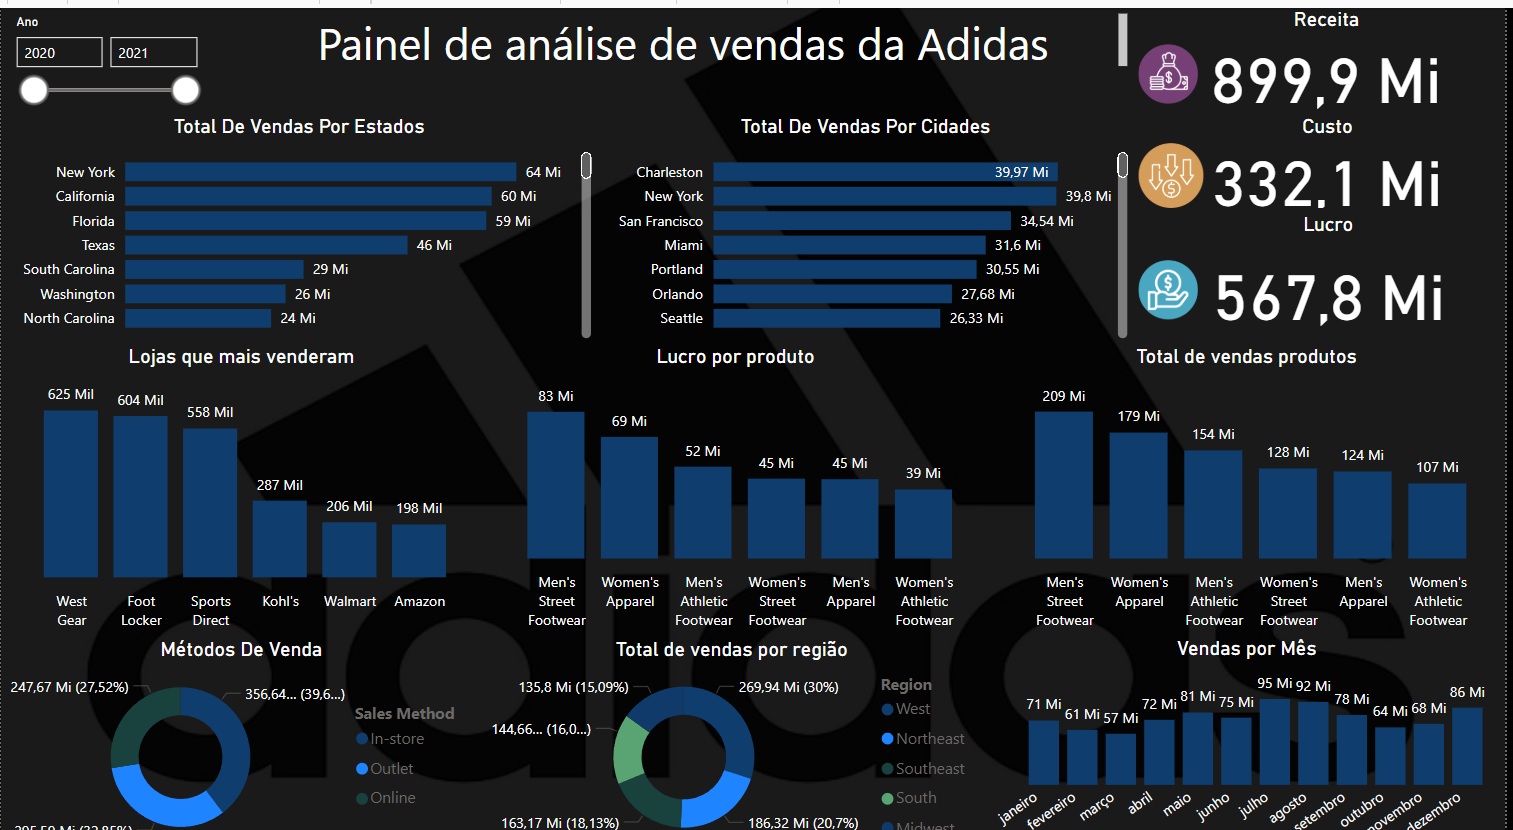

The dashboard page shown, as its layout file describes it:
{"tool":"powerbi","page":{"name":"Página 1","canvas":[1280,720],"ordinal":0},"visuals":[{"type":"card","title":"Receita","fields":{"Values":["Sum(Data Sales Adidas.Total Sales)"]},"box":[977.5,0,302.5,91.2],"z":0},{"type":"clusteredColumnChart","title":"Total de vendas produtos","fields":{"Category":["Data Sales Adidas.Product"],"Y":["Sum(Data Sales Adidas.Total Sales)"]},"box":[841.2,286.2,438.6,250.3],"z":1000},{"type":"clusteredColumnChart","title":"Lojas que mais venderam","fields":{"Y":["Sum(Data Sales Adidas.Units Sold)"],"Category":["Data Sales Adidas.Retailer"]},"box":[0,286.2,409.2,250.3],"z":2000},{"type":"clusteredColumnChart","title":"Lucro por produto","fields":{"Y":["Sum(Data Sales Adidas.Operating Profit)"],"Category":["Data Sales Adidas.Product"]},"box":[409.2,286.2,432,250.3],"z":3000},{"type":"donutChart","title":" Métodos De Venda","fields":{"Category":["Data Sales Adidas.Sales Method"],"Y":["Sum(Data Sales Adidas.Total Sales)"]},"box":[0,536.5,409.2,183.9],"z":4000},{"type":"donutChart","title":"Total de vendas por região","fields":{"Y":["Sum(Data Sales Adidas.Total Sales)"],"Category":["Data Sales Adidas.Region"]},"box":[409.2,536.5,425.5,183.9],"z":5000},{"type":"clusteredBarChart","title":"Total De Vendas Por Cidades","fields":{"Y":["Sum(Data Sales Adidas.Total Sales)"],"Category":["Data Sales Adidas.City"]},"box":[507.5,91.2,456.2,195],"z":6000},{"type":"clusteredBarChart","title":"Total De Vendas Por Estados","fields":{"Y":["Sum(Data Sales Adidas.Total Sales)"],"Category":["Data Sales Adidas.State"]},"box":[0,91.2,507.5,195],"z":7000},{"type":"slicer","fields":{"Values":["Data Sales Adidas.Invoice Date.Variation.Hierarquia de datas.Ano"]},"box":[0,0,178.8,107.5],"z":8000},{"type":"clusteredColumnChart","title":"Vendas por Mês","fields":{"Category":["Data Sales Adidas.Invoice Date.Variation.Hierarquia de datas.Mês"],"Y":["Sum(Data Sales Adidas.Total Sales)"]},"box":[841,536,439,184],"z":9000},{"type":"textbox","box":[205,0,758.8,65],"z":10000},{"type":"card","title":"Custo","fields":{"Values":["Sum(Data Sales Adidas.Operating Profit)"]},"box":[980,91.2,298.8,83.8],"z":11000},{"type":"card","title":"Lucro","fields":{"Values":["Data Sales Adidas.Lucro"]},"box":[980,175,300,111.2],"z":12000},{"type":"image","box":[963.8,21.2,60,70],"z":13000},{"type":"image","box":[963.8,107.5,65,71.2],"z":14000},{"type":"image","box":[963.8,203.8,60,72.5],"z":15000}]}

Visuals, with their boxes in screenshot pixels (x1, y1, x2, y2), scaled from the page's 1280x720 canvas onto the 1513x830 screenshot:
"Receita" card: box(1155, 0, 1512, 105)
"Total de vendas produtos" clusteredColumnChart: box(994, 330, 1512, 618)
"Lojas que mais venderam" clusteredColumnChart: box(0, 330, 484, 618)
"Lucro por produto" clusteredColumnChart: box(484, 330, 994, 618)
" Métodos De Venda" donutChart: box(0, 618, 484, 829)
"Total de vendas por região" donutChart: box(484, 618, 987, 829)
"Total De Vendas Por Cidades" clusteredBarChart: box(600, 105, 1139, 330)
"Total De Vendas Por Estados" clusteredBarChart: box(0, 105, 600, 330)
slicer - Data Sales Adidas.Invoice Date.Variation.Hierarquia de datas.Ano: box(0, 0, 211, 124)
"Vendas por Mês" clusteredColumnChart: box(994, 618, 1512, 829)
textbox: box(242, 0, 1139, 75)
"Custo" card: box(1158, 105, 1512, 202)
"Lucro" card: box(1158, 202, 1512, 330)
image: box(1139, 24, 1210, 105)
image: box(1139, 124, 1216, 206)
image: box(1139, 235, 1210, 319)
